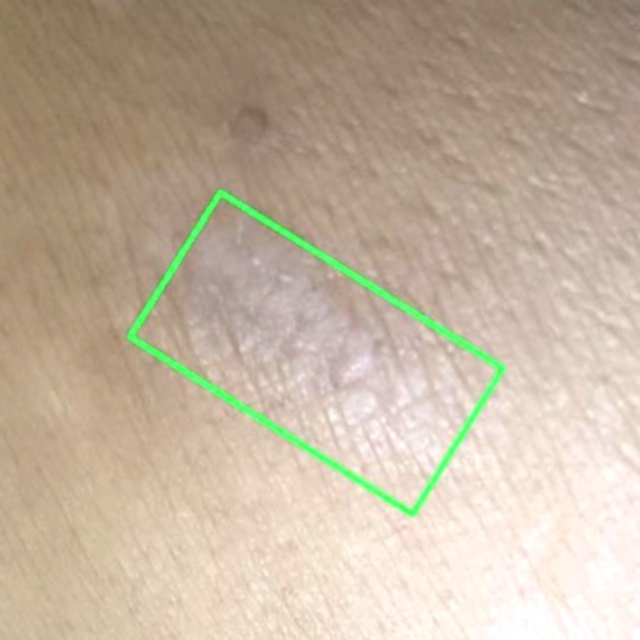Atopic Dermatitis: (128, 191, 503, 513)
